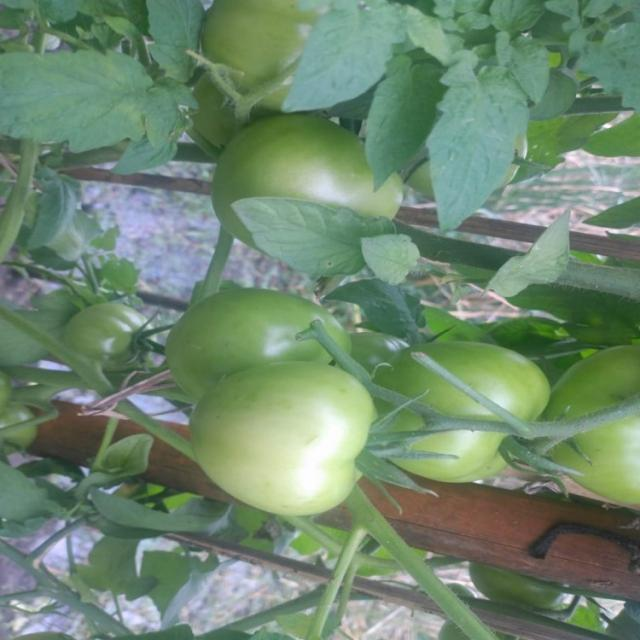tomato: (198, 377, 378, 524), (373, 333, 539, 488), (153, 294, 363, 405), (221, 112, 416, 231), (535, 343, 640, 502), (192, 1, 338, 103), (47, 295, 153, 381)
